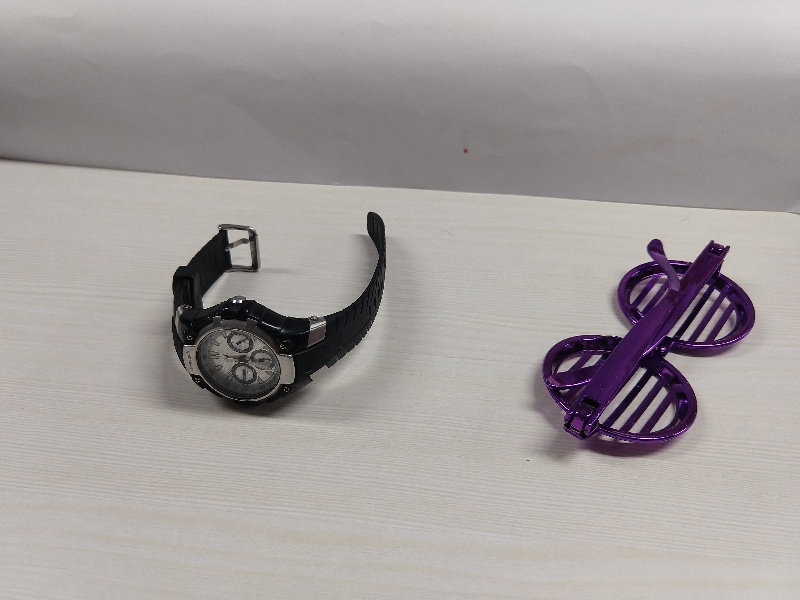shades: (517, 218, 764, 461)
watch: (165, 204, 395, 404)
